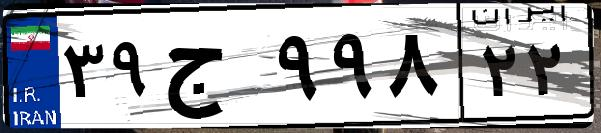2: (475, 38, 525, 113), (525, 38, 570, 115)
3: (57, 26, 110, 100)
8: (385, 28, 445, 110)
9: (270, 28, 330, 110), (330, 28, 385, 110), (110, 28, 158, 98)
ج: (158, 20, 270, 120)
